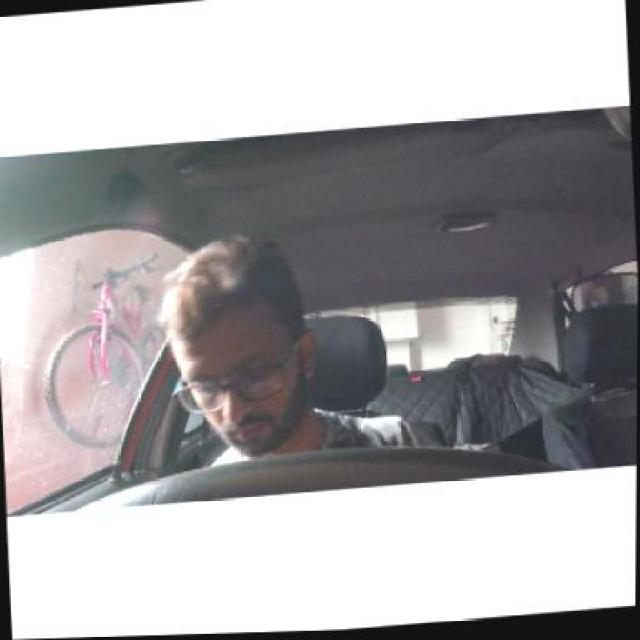drowsy: (156, 258, 306, 454)
